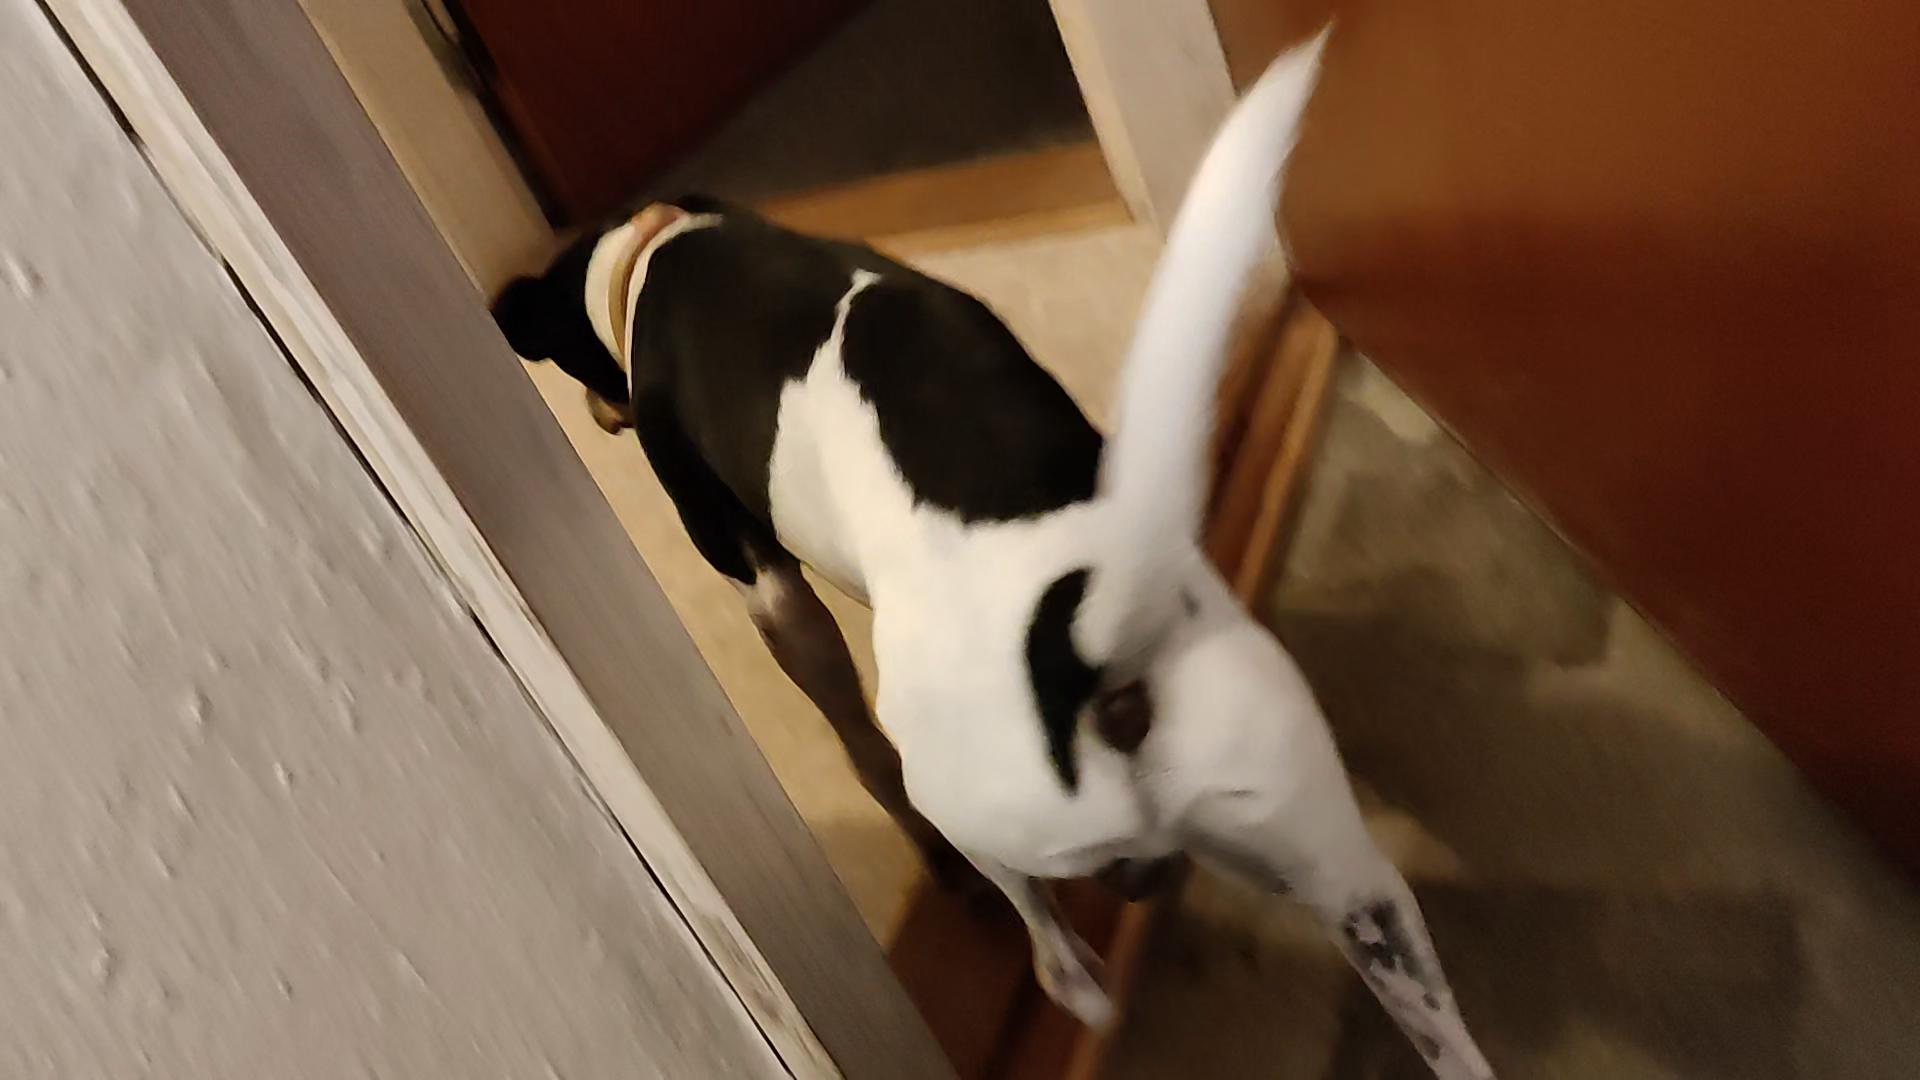Dog: (481, 8, 1501, 1079)
